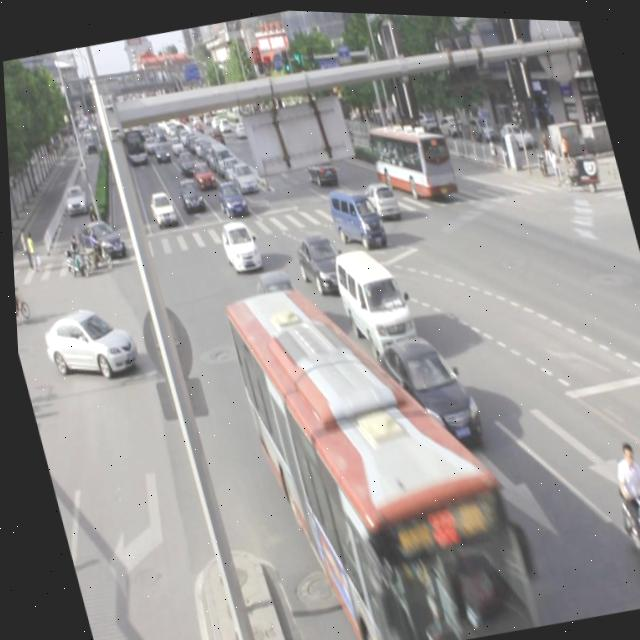car: (369, 321, 481, 453), (35, 300, 139, 387), (291, 227, 347, 295), (213, 214, 261, 272), (358, 175, 397, 218)
truck: (326, 238, 418, 361), (323, 180, 383, 250)
van: (219, 251, 532, 640)
